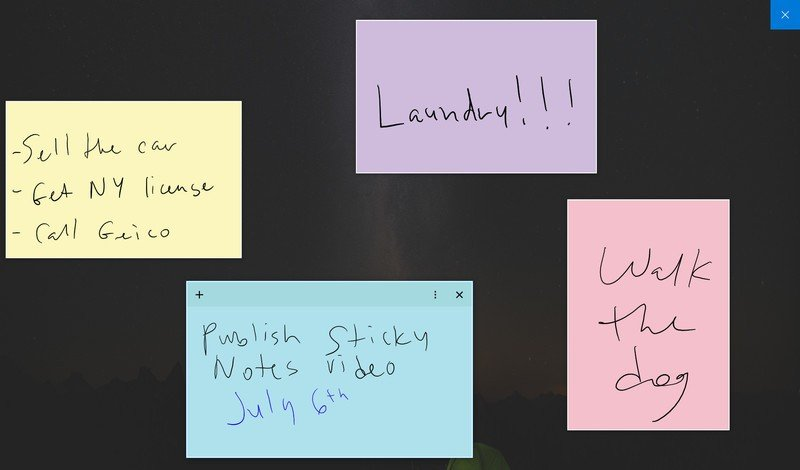Note: (183, 280, 473, 457), (356, 18, 599, 174), (568, 198, 728, 432), (7, 102, 240, 256)
